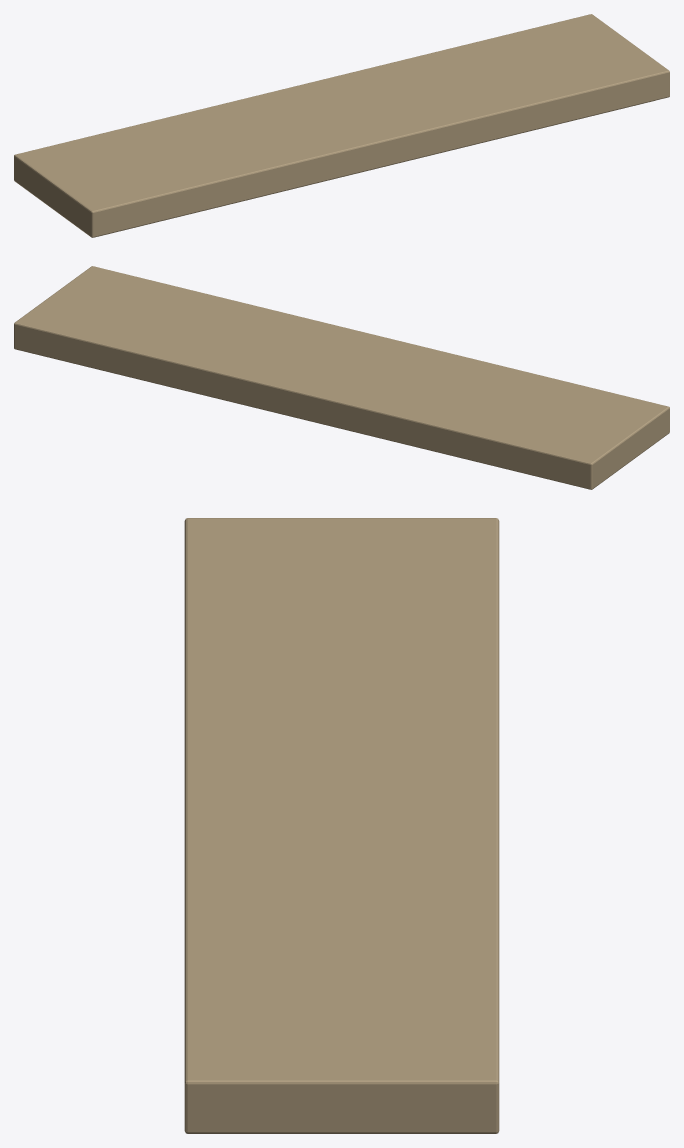
File: MH_Window_Sill_1p2m.fbx
3 renders of one model, top to bottom at view 1: azimuth 30°, elevation 25°; view 2: azimuth 150°, elevation 25°; view 3: azimuth 270°, elevation 25°, orthographic. The views are drawn at different scales.
Parts seen in each view (by area): view 1: Body; view 2: Body; view 3: Body.
Part boxes in pixels (x1,y1,x2,y2): Body: (14,14,669,237); Body: (14,266,669,489); Body: (184,518,499,1133).
Size of the model in its own units: 1.36 by 0.069 by 0.32.
